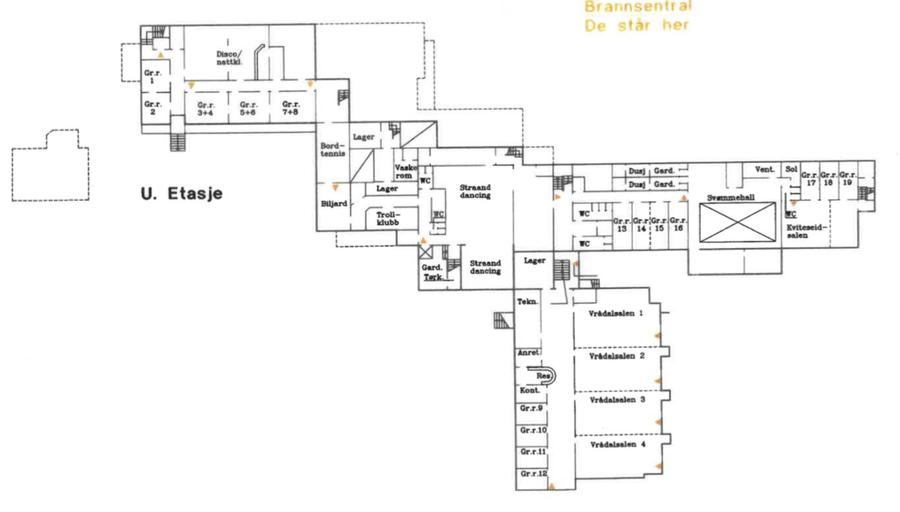room: (316, 182, 351, 231), (514, 289, 541, 348), (269, 91, 316, 123), (185, 92, 228, 124), (418, 245, 448, 290), (229, 92, 270, 123), (668, 202, 688, 250), (141, 60, 170, 92), (141, 92, 170, 124), (612, 202, 631, 250), (632, 202, 650, 250), (650, 202, 668, 250), (349, 122, 381, 148), (394, 148, 418, 182), (801, 161, 820, 200), (820, 161, 839, 200), (839, 161, 858, 200), (516, 468, 548, 490), (516, 447, 548, 469), (516, 425, 548, 447), (516, 403, 547, 425), (858, 161, 875, 200), (515, 385, 547, 403), (515, 367, 548, 384), (515, 348, 542, 366)
